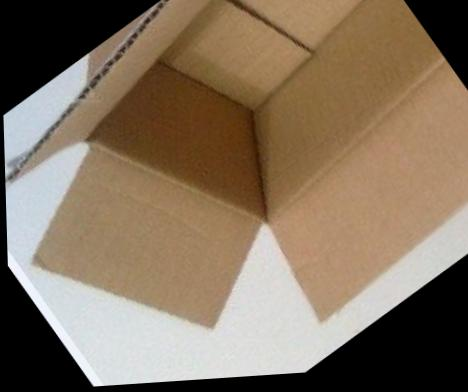cardboard: (4, 0, 467, 391)
